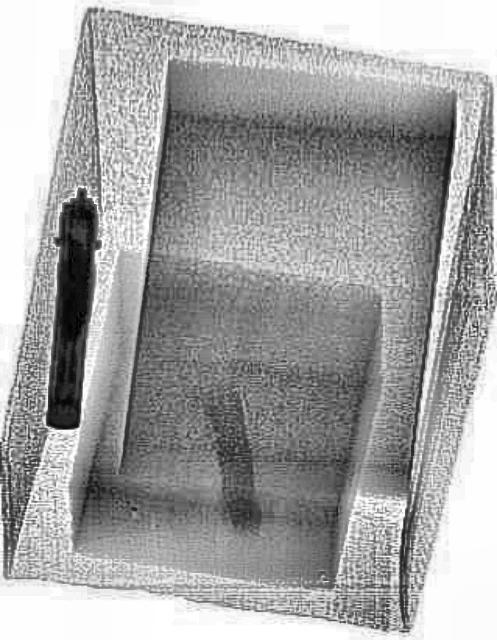Gun: (48, 186, 94, 430)
